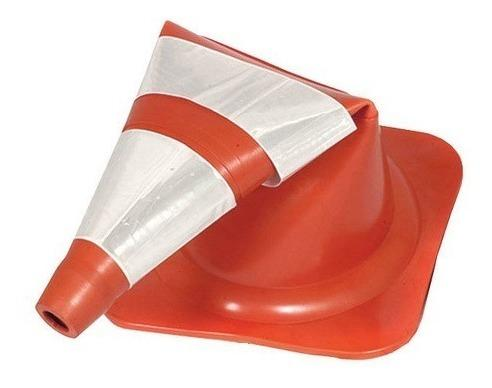traffic_cone: (35, 19, 463, 359), (35, 19, 368, 339)
